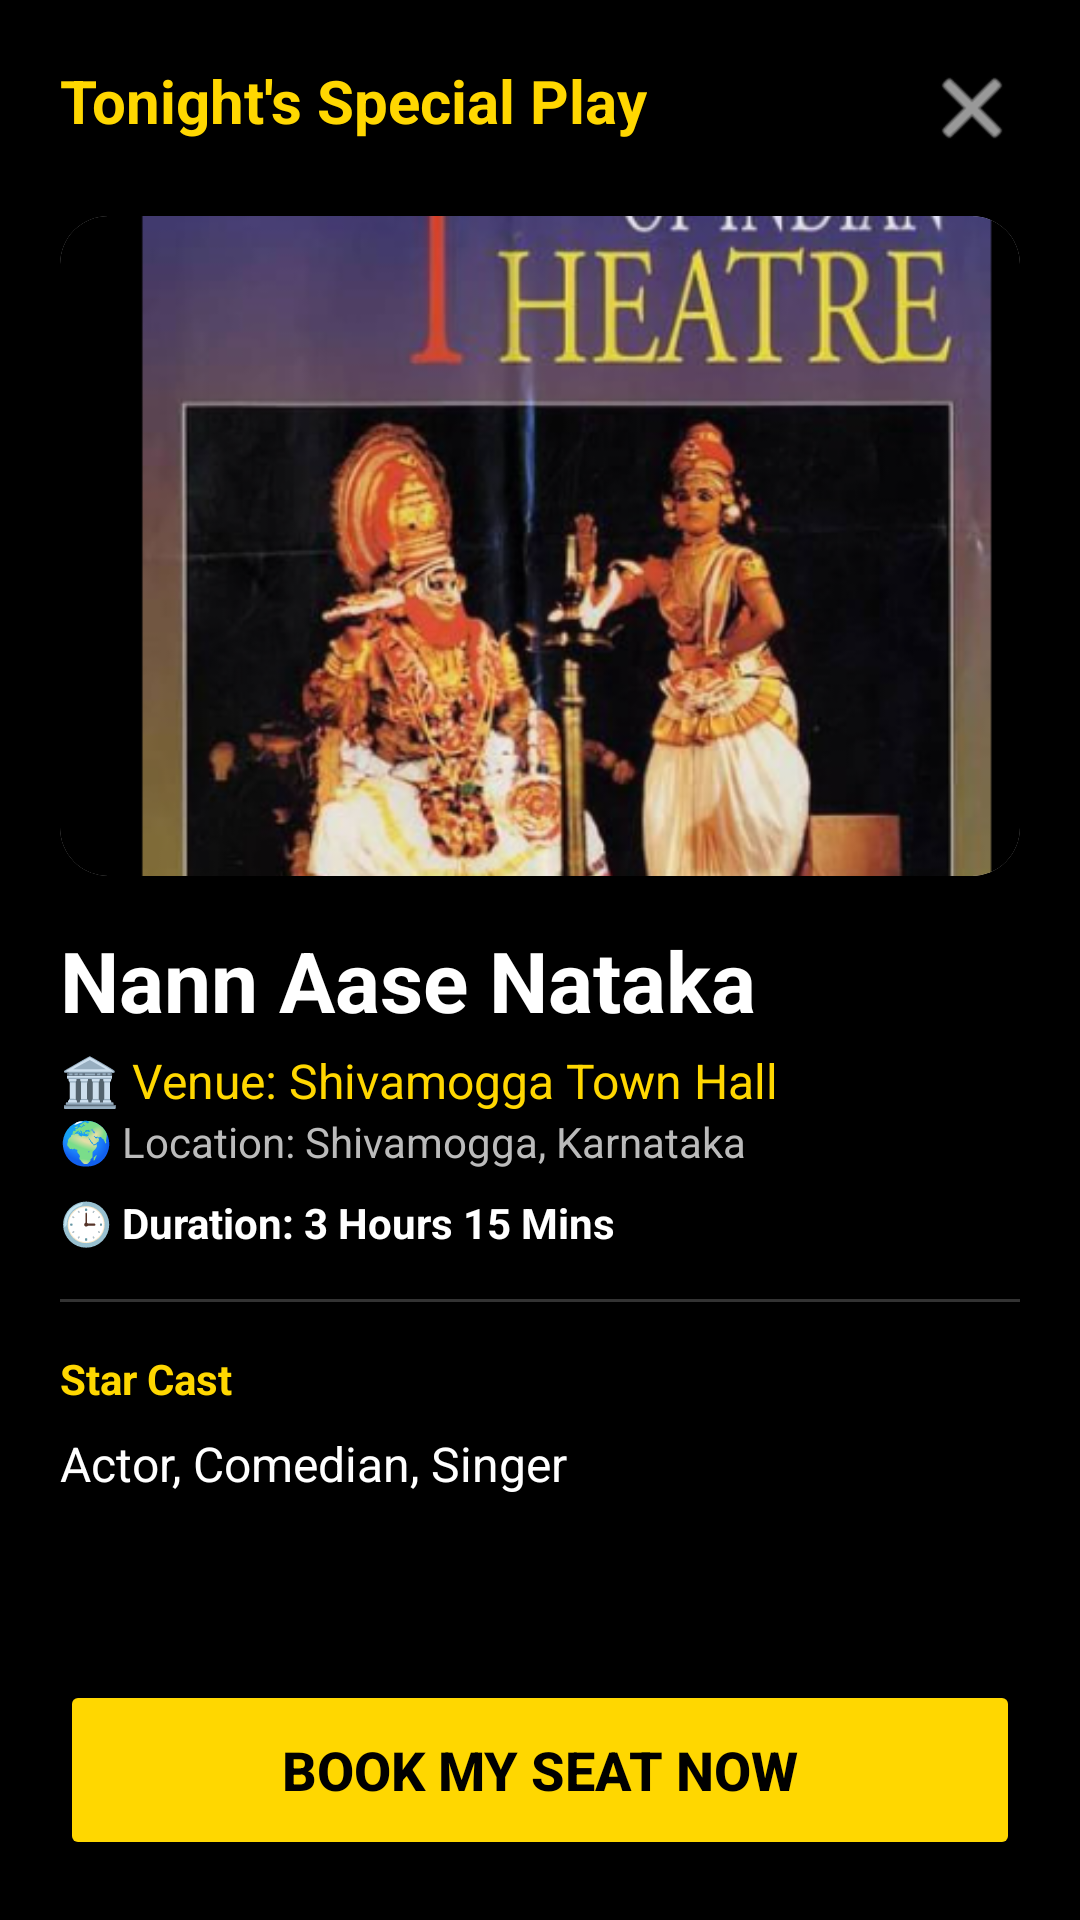

Screen size 1080w x 1920h. Icon name, then its box in pixels as BBox(x1, y1, x2, y2):
close clear cancel: BBox(942, 78, 1002, 138)
